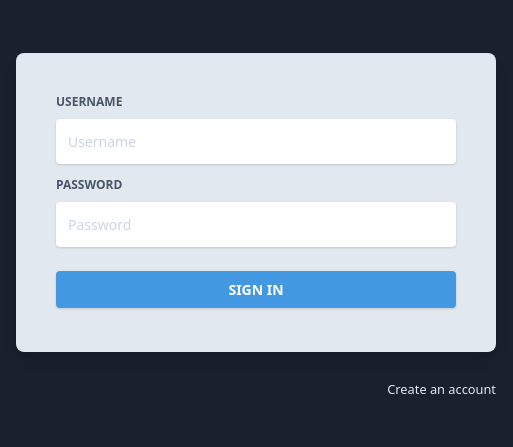
Test: should not log user in
This screenshot has width=513, height=447.
// find the inputs and type in them
Type "admin" into the field with placeholder "Username" at (256, 141), box [56,118,456,164]
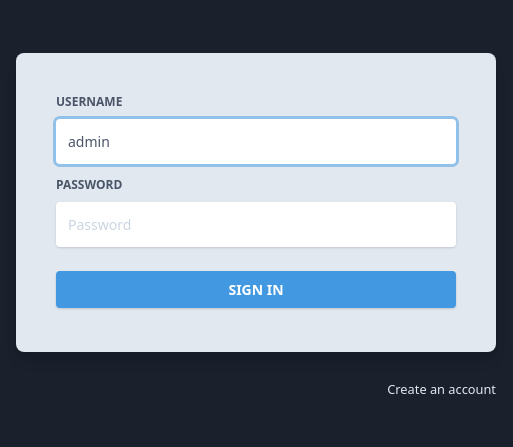
Type "123456" into the password field with placeholder "Password" at (256, 224), box [56,202,456,246]
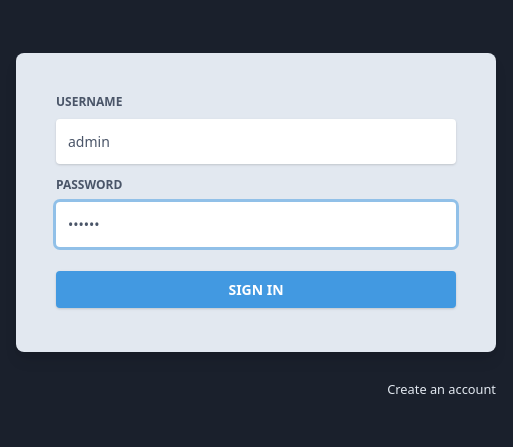
// find the button and simulate a click
Click the button "Sign In" at (256, 289), box [56,270,456,308]
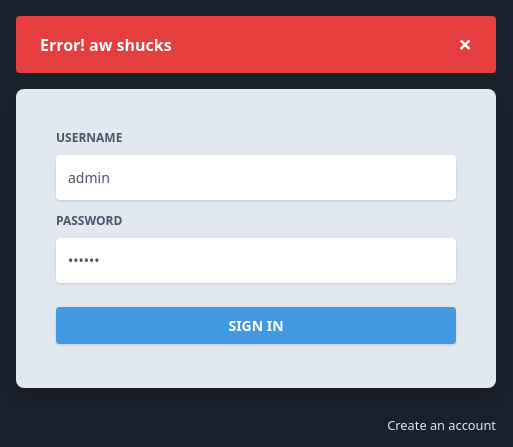
Now the text "Error! aw shucks" is shown, box [40,34,172,56]
